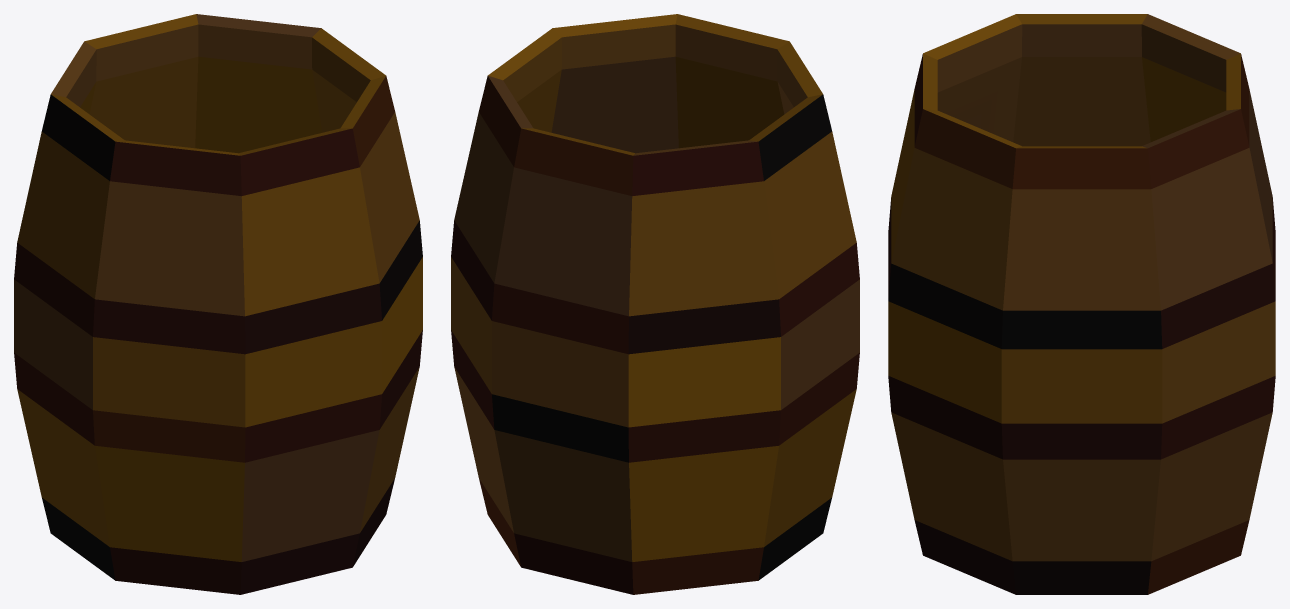
The model's file is BarrelEmpty.glb.
3 views of the same model, side by side, from view 1: azimuth 30°, elevation 25°; view 2: azimuth 150°, elevation 25°; view 3: azimuth 270°, elevation 25° (orthographic).
Visible parts, largest first — view 1: BarrelEmpty; view 2: BarrelEmpty; view 3: BarrelEmpty.
Part boxes in pixels (left/top/right/bottom): BarrelEmpty: left=14, top=14, right=422, bottom=594; BarrelEmpty: left=451, top=14, right=859, bottom=594; BarrelEmpty: left=888, top=14, right=1275, bottom=594.
Size of the model in its own units: 0.5505 by 0.7 by 0.5505.
